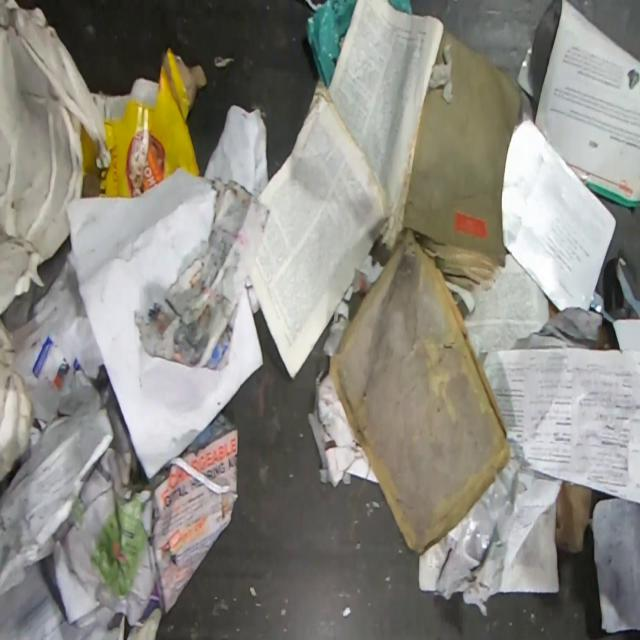cardboard: (328, 228, 510, 556), (0, 0, 111, 316), (80, 47, 209, 200), (0, 316, 33, 484), (554, 479, 594, 554)
soft_plastic: (418, 456, 563, 618), (511, 308, 603, 350), (589, 252, 640, 324)
